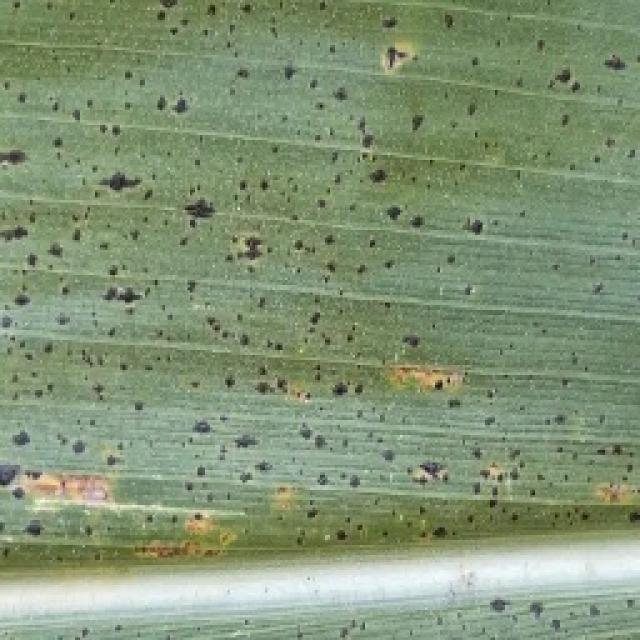Tar_Spot: (2, 100, 460, 496)
